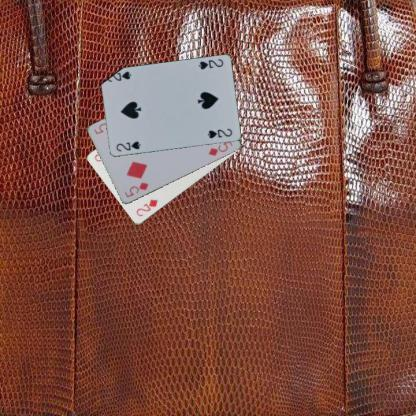2d: (133, 197, 159, 218)
2s: (113, 138, 142, 152), (196, 57, 224, 71)
5d: (122, 180, 150, 198)
